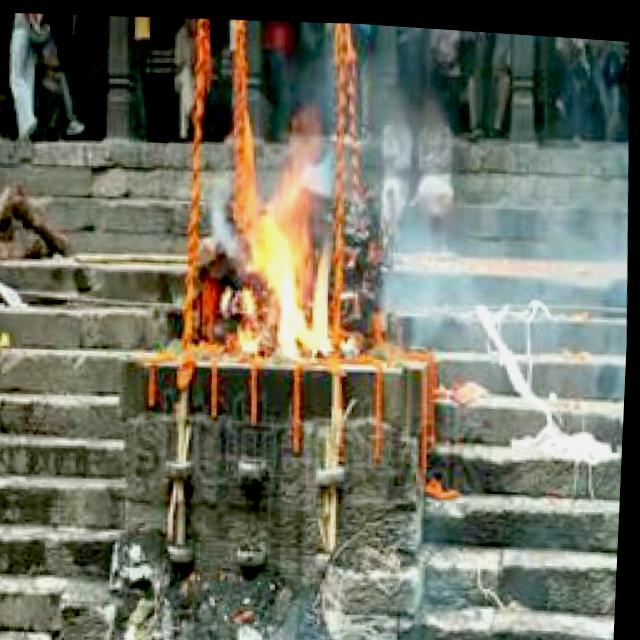helmet: (227, 123, 347, 355)
